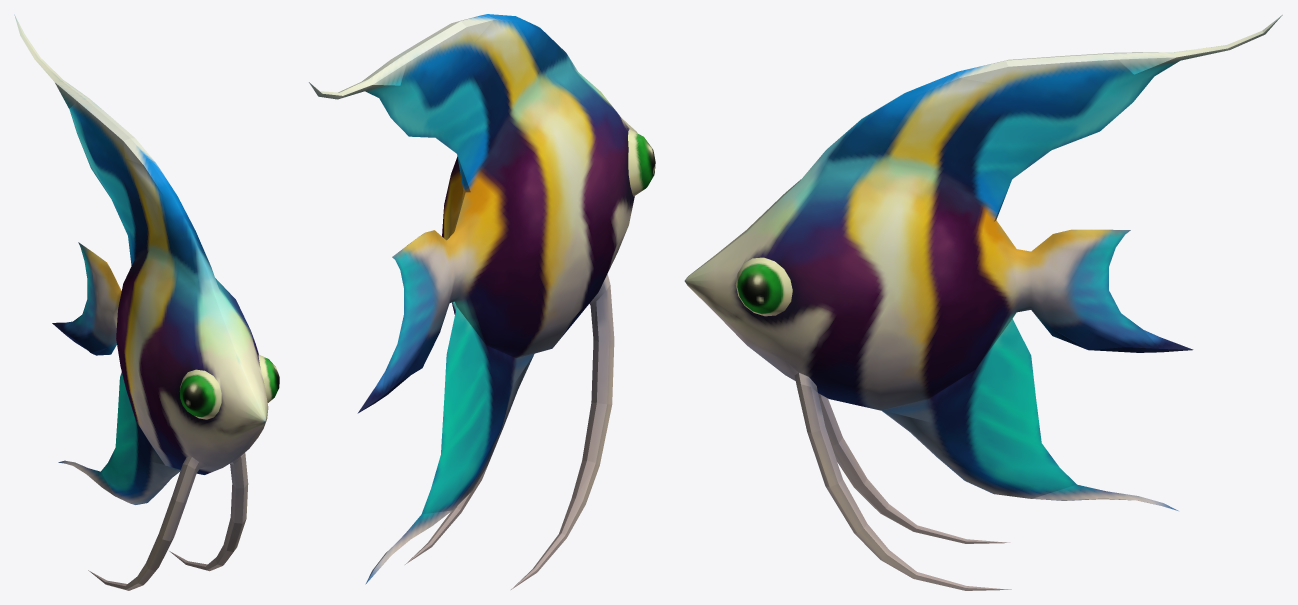
3 renders of one model, left to right at view 1: azimuth 30°, elevation 25°; view 2: azimuth 150°, elevation 25°; view 3: azimuth 270°, elevation 25°, orthographic. The views are drawn at different scales.
Parts seen in each view (by area): view 1: Swallow_0; view 2: Swallow_0; view 3: Swallow_0.
Part boxes in pixels (x1,y1,x2,y2): Swallow_0: (14,14,279,590); Swallow_0: (309,14,655,590); Swallow_0: (684,15,1282,590).
Size of the model in its own units: 0.0204 by 0.0969 by 0.0951.
Materials: 1 (1 with a texture image).
